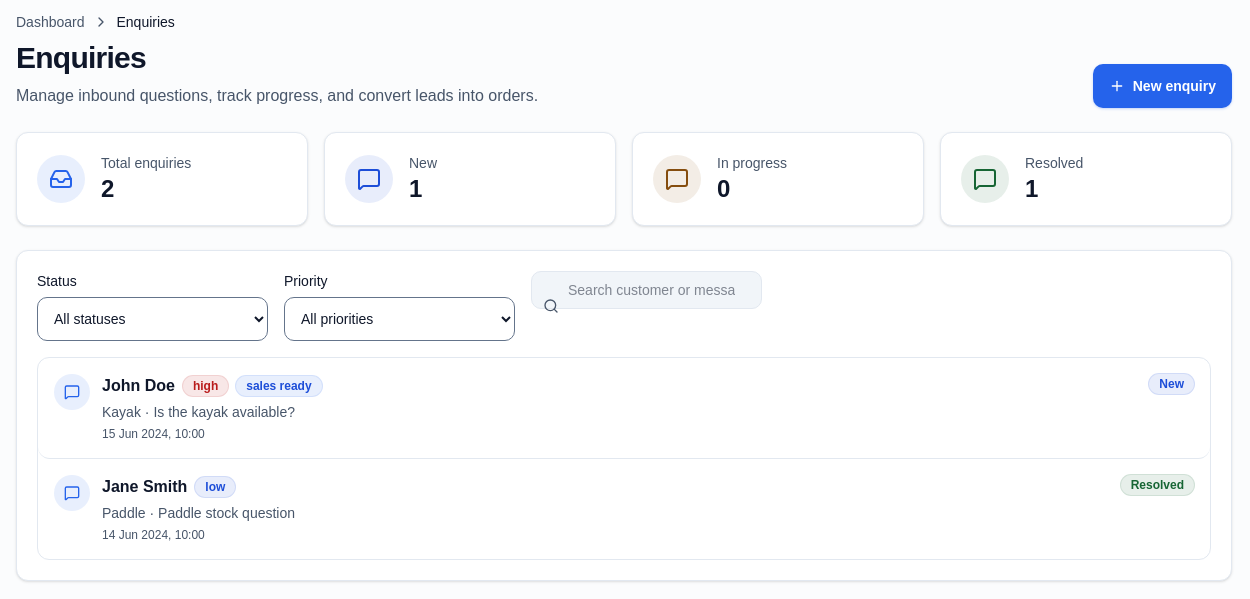
it: EnquiriesList › filters by search query
The image size is (1250, 599).
In the search field with placeholder "Search customer or message...": (646, 290) x1=531 y1=271 x2=762 y2=309, type "kayak"
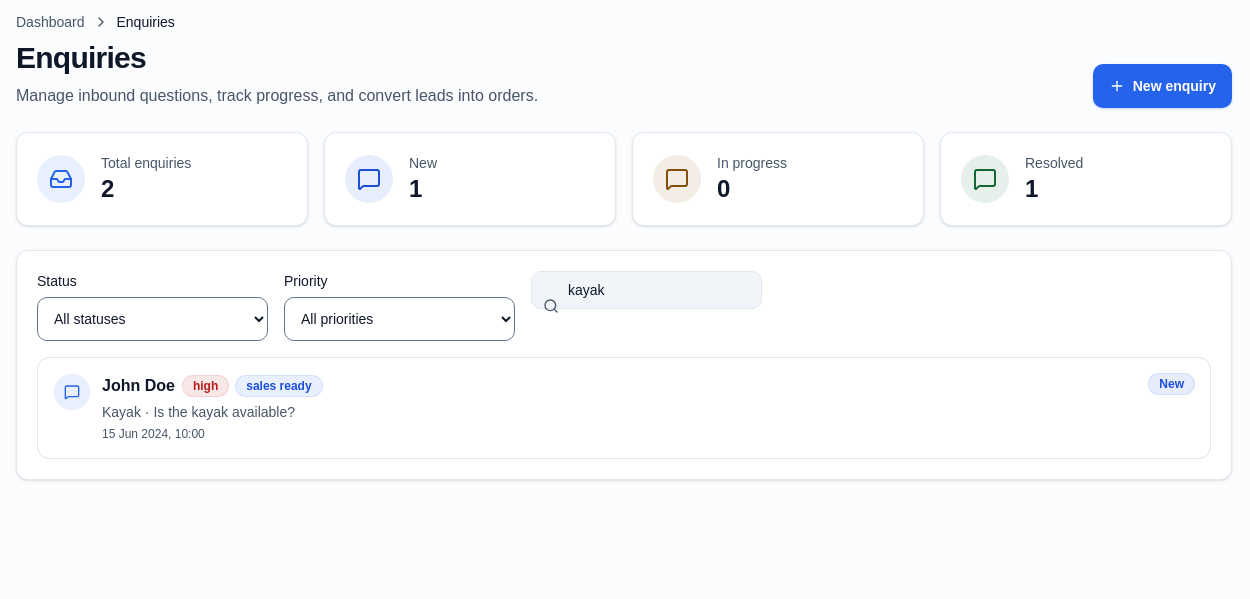
Expected: the text "Kayak · Is the kayak available?" is shown, x1=102 y1=402 x2=322 y2=422
Expected: the link "Paddle stock question" is gone
